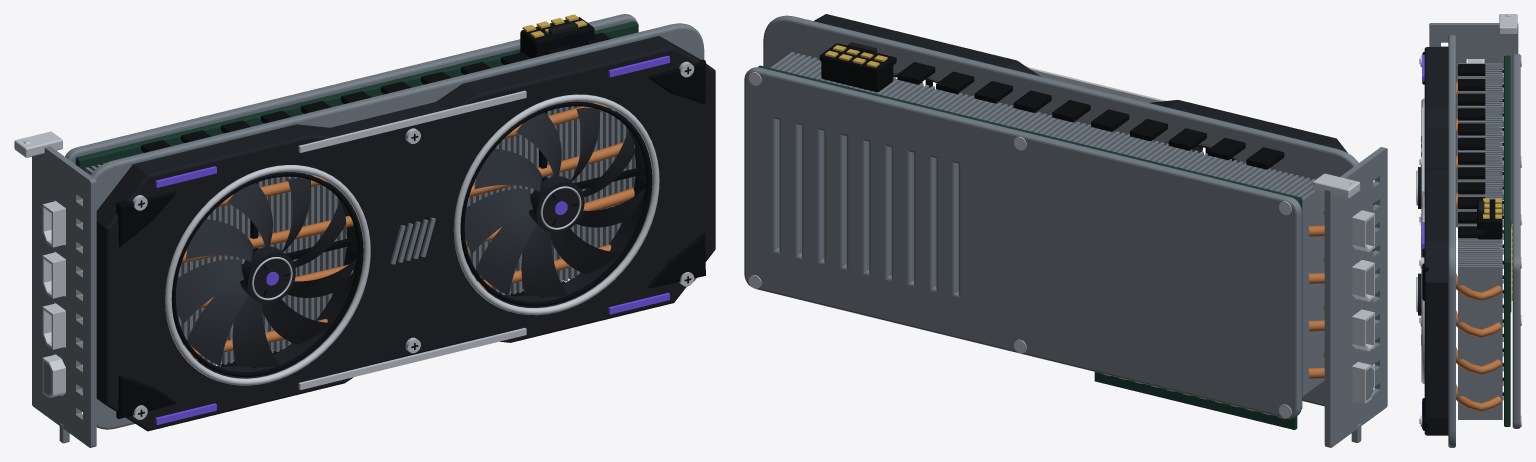
The model's file is nexrig-dual-fan-gpu.glb.
3 renders of one model, left to right at view 1: azimuth 30°, elevation 25°; view 2: azimuth 150°, elevation 25°; view 3: azimuth 270°, elevation 25°, orthographic. The views are drawn at different scales.
Visible parts, largest first — view 1: NEXRIG original dual fan GPU, Fan rotor (×2); view 2: NEXRIG original dual fan GPU; view 3: NEXRIG original dual fan GPU, Fan rotor (×2).
Part boxes in pixels (x1,y1,x2,y2): NEXRIG original dual fan GPU: (14,14,715,447); Fan rotor (×2): (175,107,646,367); NEXRIG original dual fan GPU: (744,14,1387,447); NEXRIG original dual fan GPU: (1419,14,1521,447); Fan rotor (×2): (1416,136,1421,345).
Bounding box in the file's own units: 2.91 × 1.24 × 0.542.
